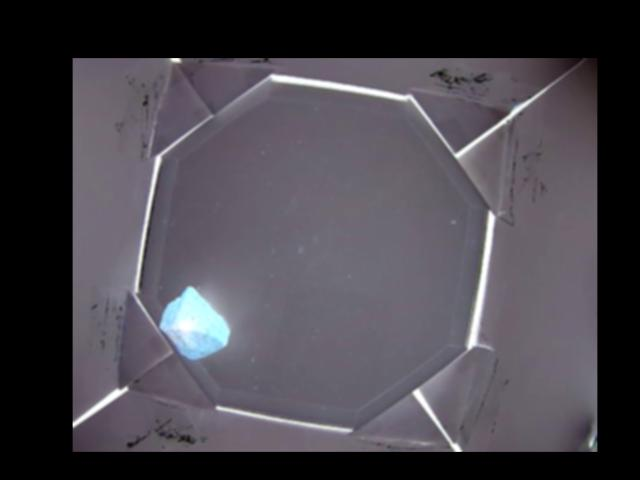Brisk: (160, 286, 230, 357)
